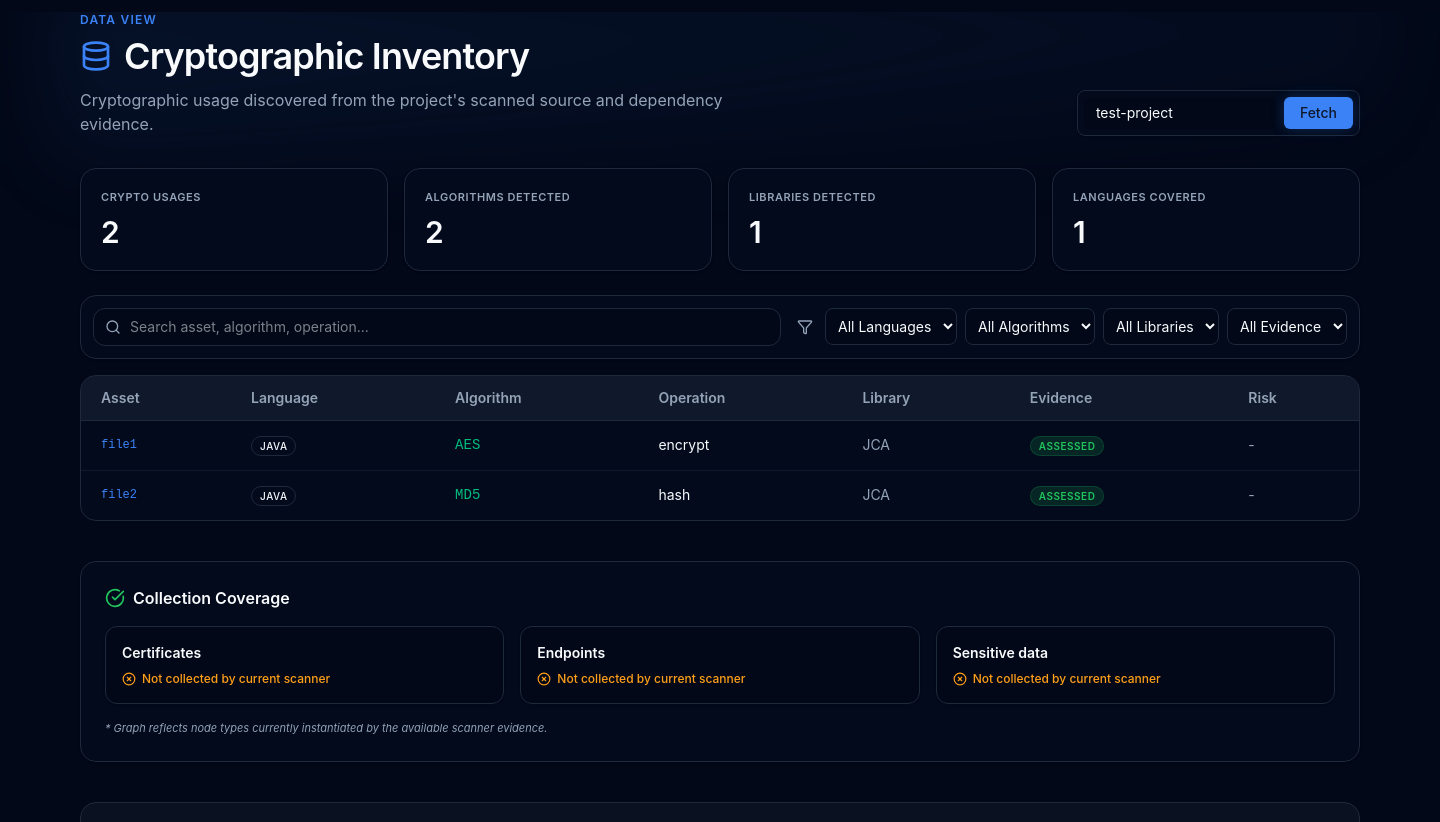
Test: CryptoInventory Component › search works
The width and height of the screenshot is (1440, 822).
Type "AES" into the field with placeholder "Search asset, algorithm, operation...".
click(437, 326); type("AES")  # box x1=93 y1=308 x2=781 y2=346
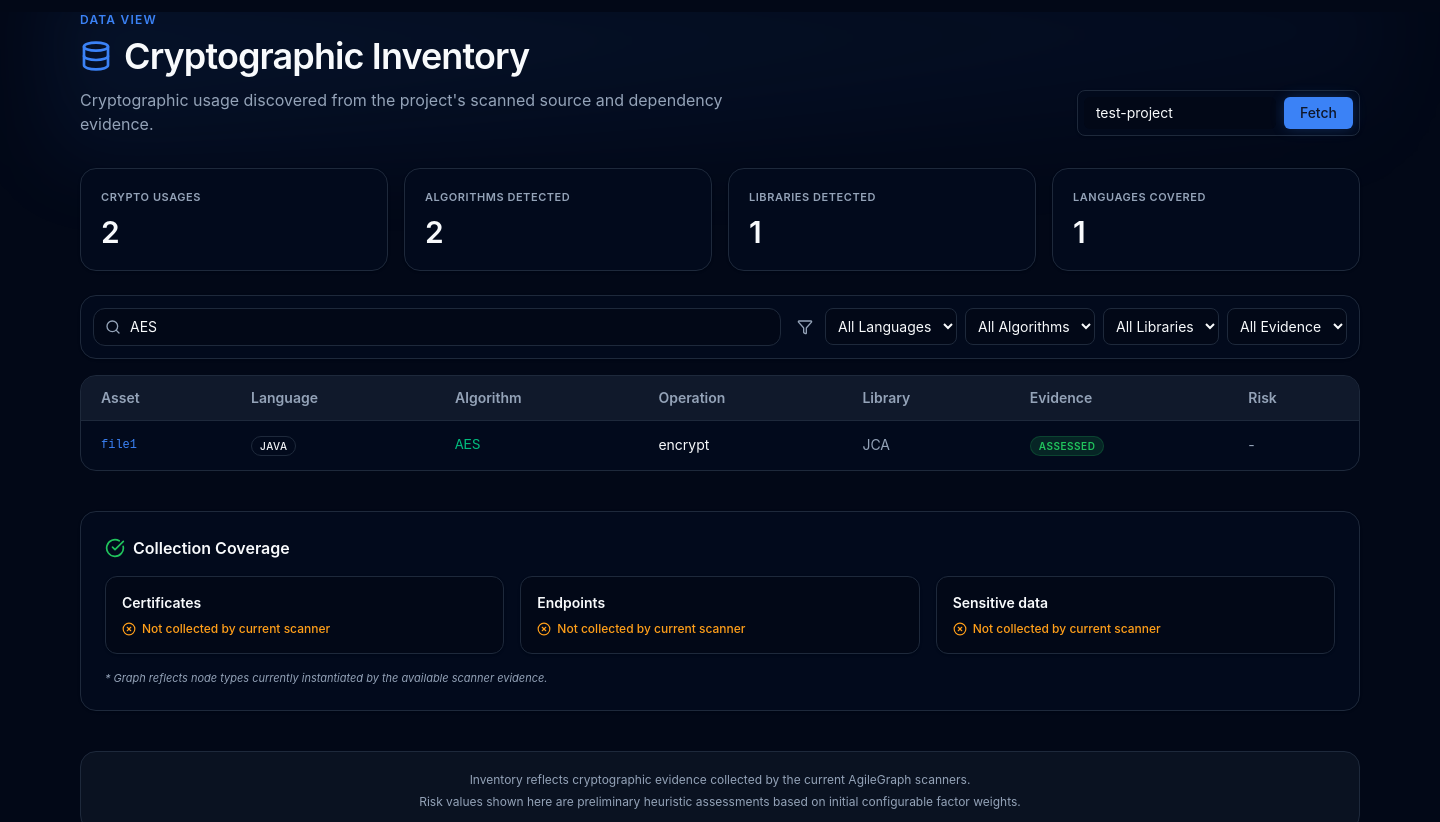
Check: the text "file1" is shown, box x1=81 y1=420 x2=231 y2=470
Check: the text "file2" is gone
